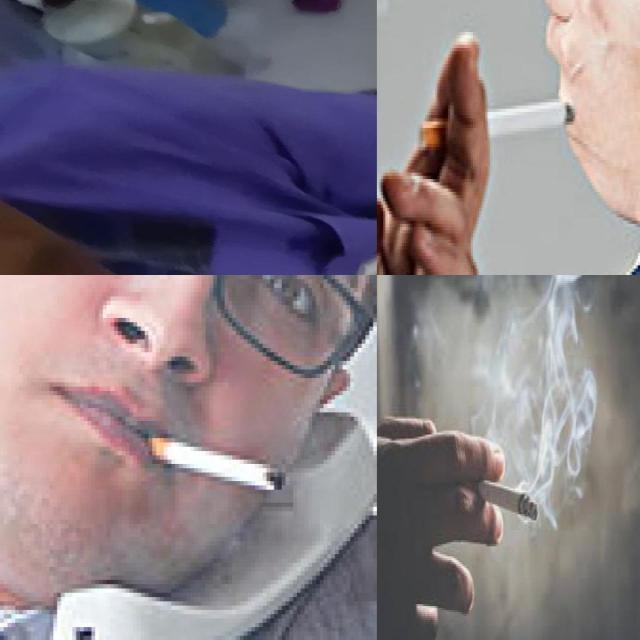smoking: (134, 431, 286, 493), (421, 100, 575, 150), (461, 478, 539, 522)
